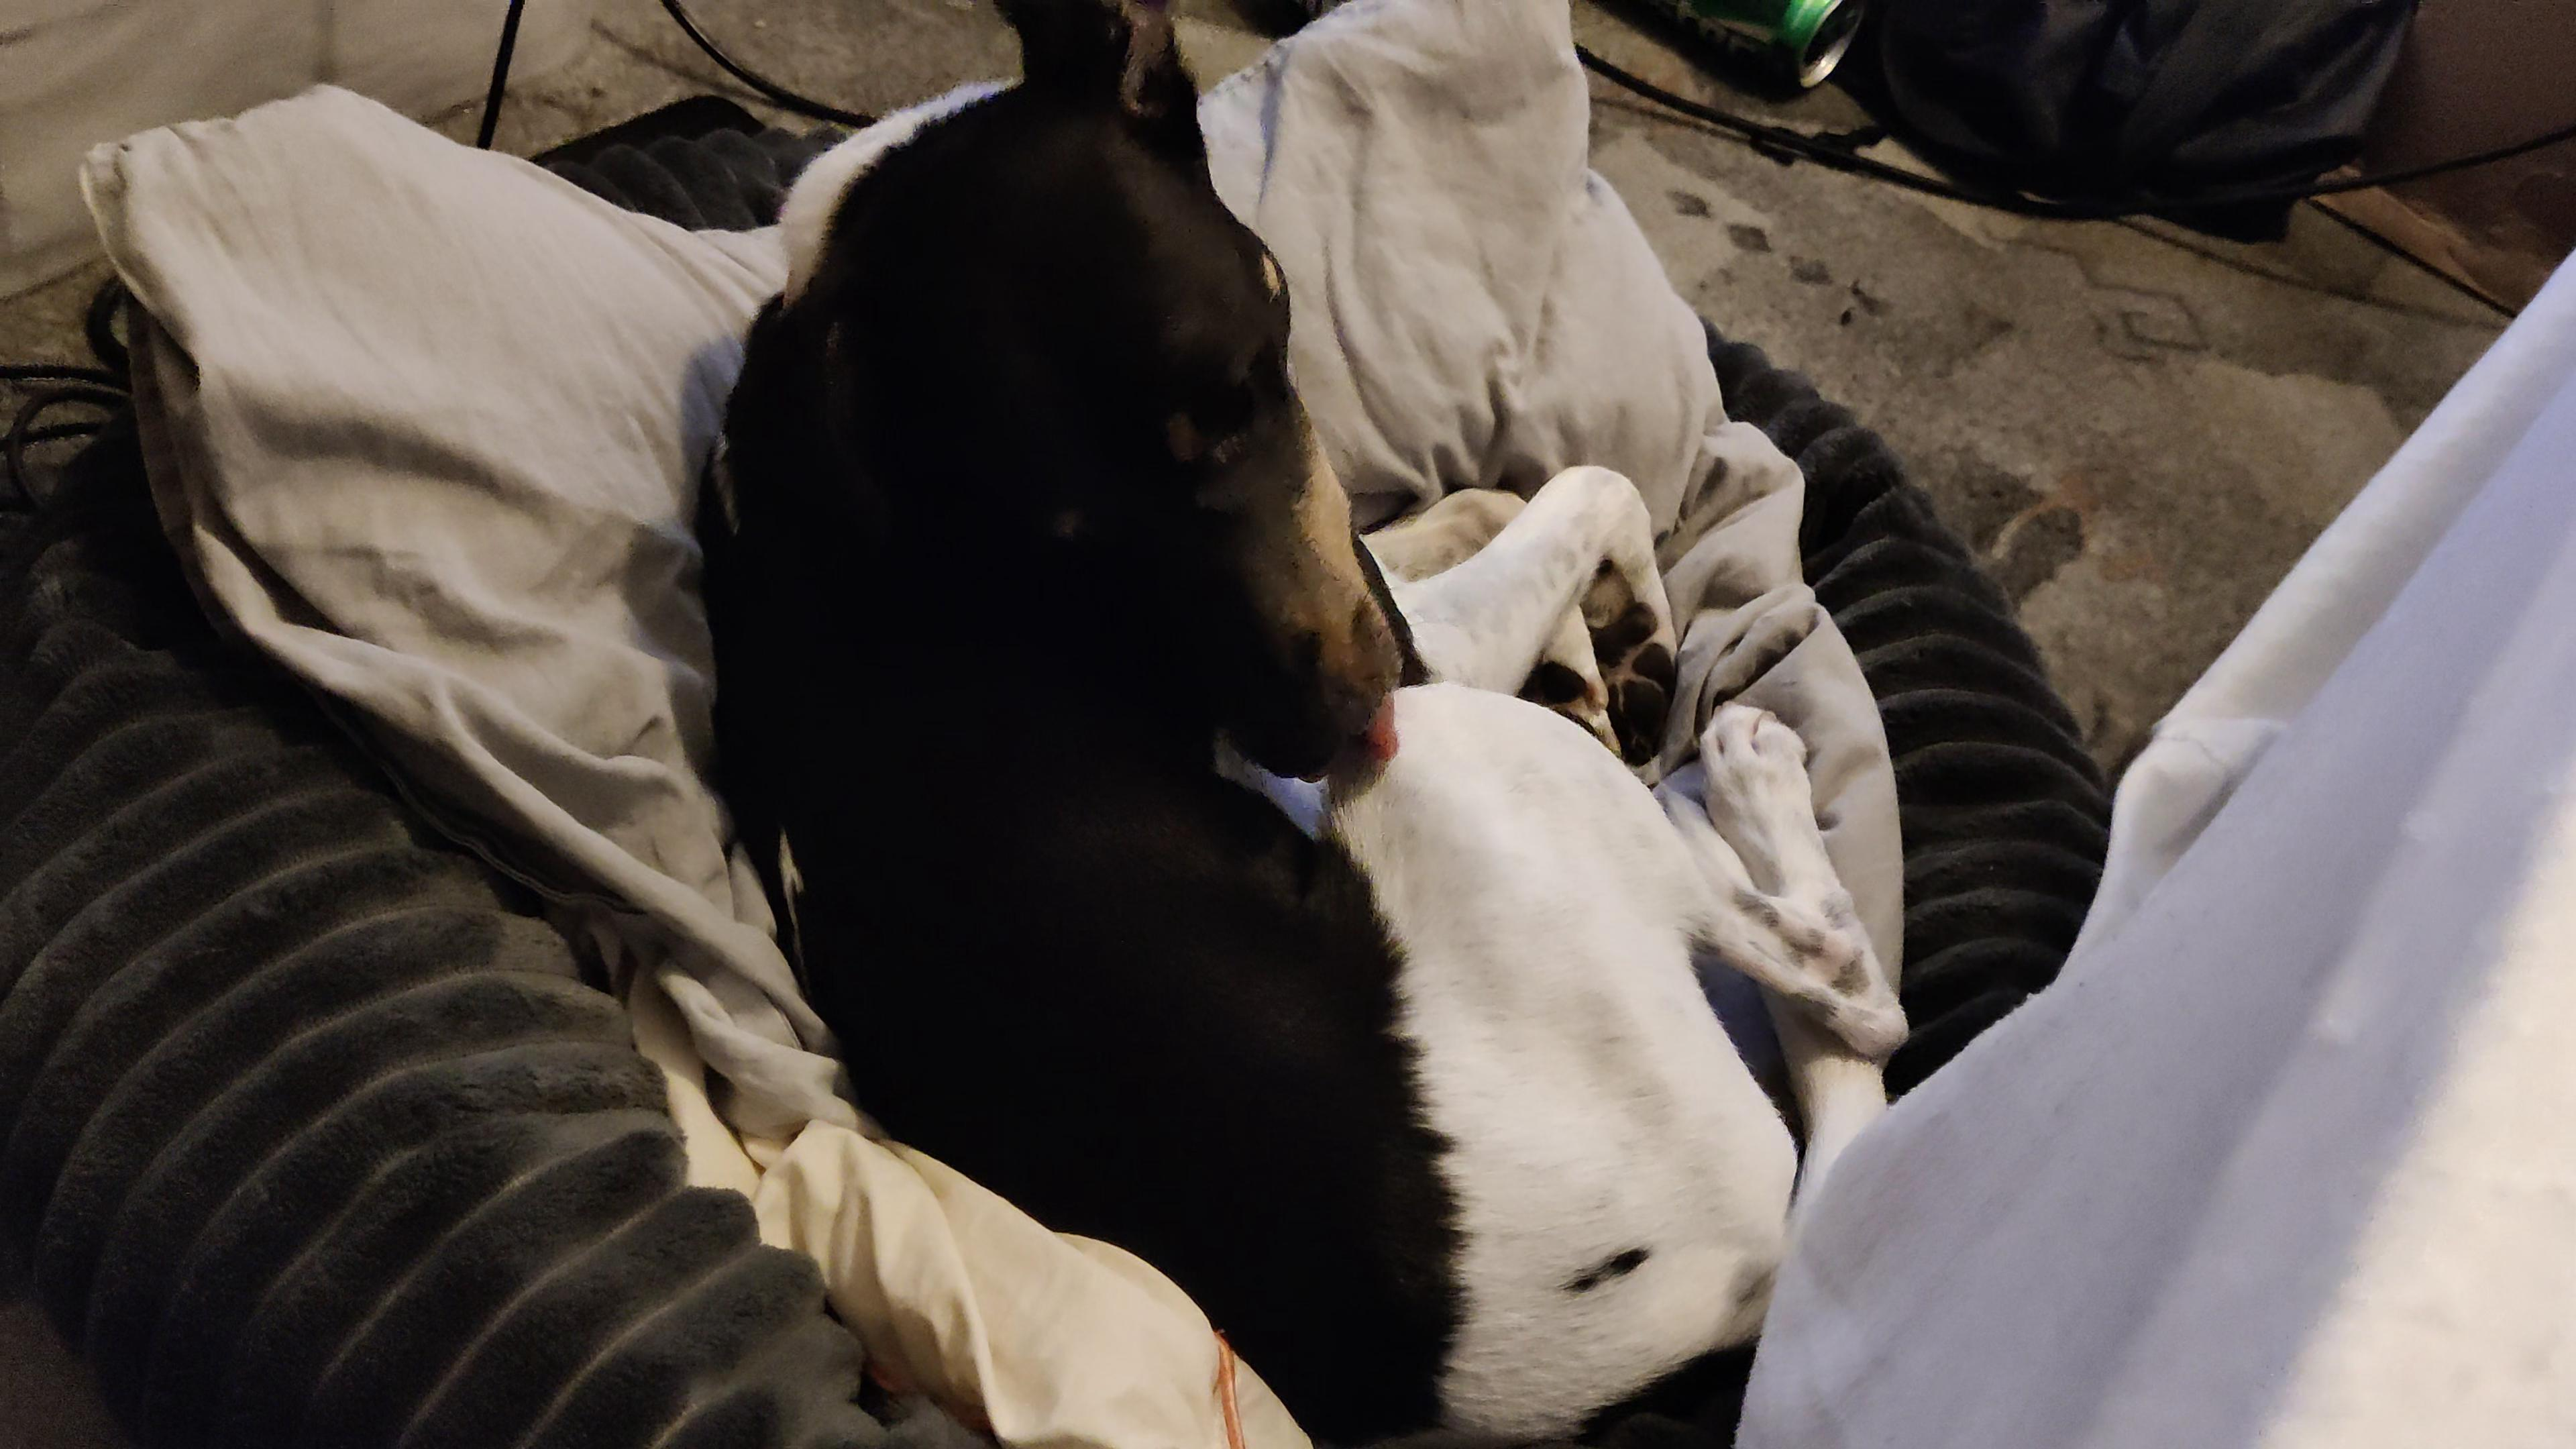Dog: (678, 0, 1944, 1449)
